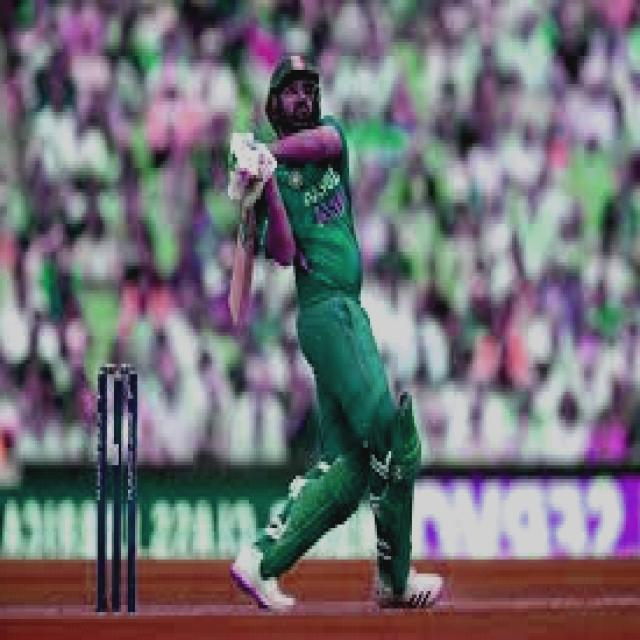toe: (218, 294, 248, 330)
